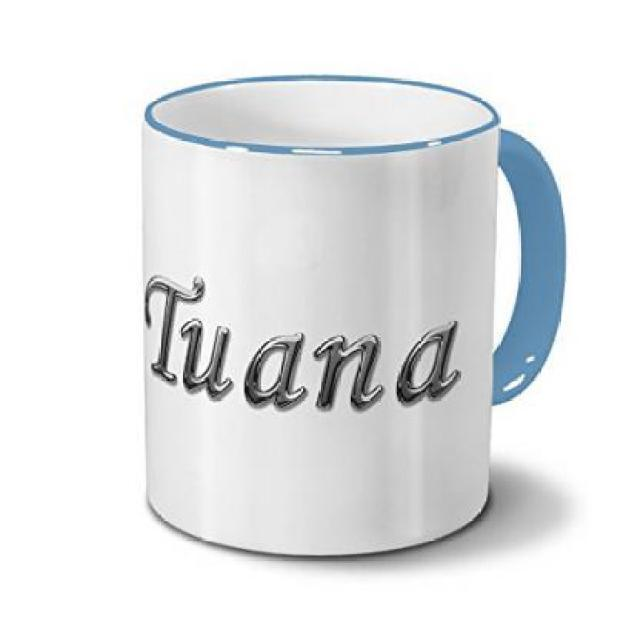taza: (138, 74, 568, 562)
